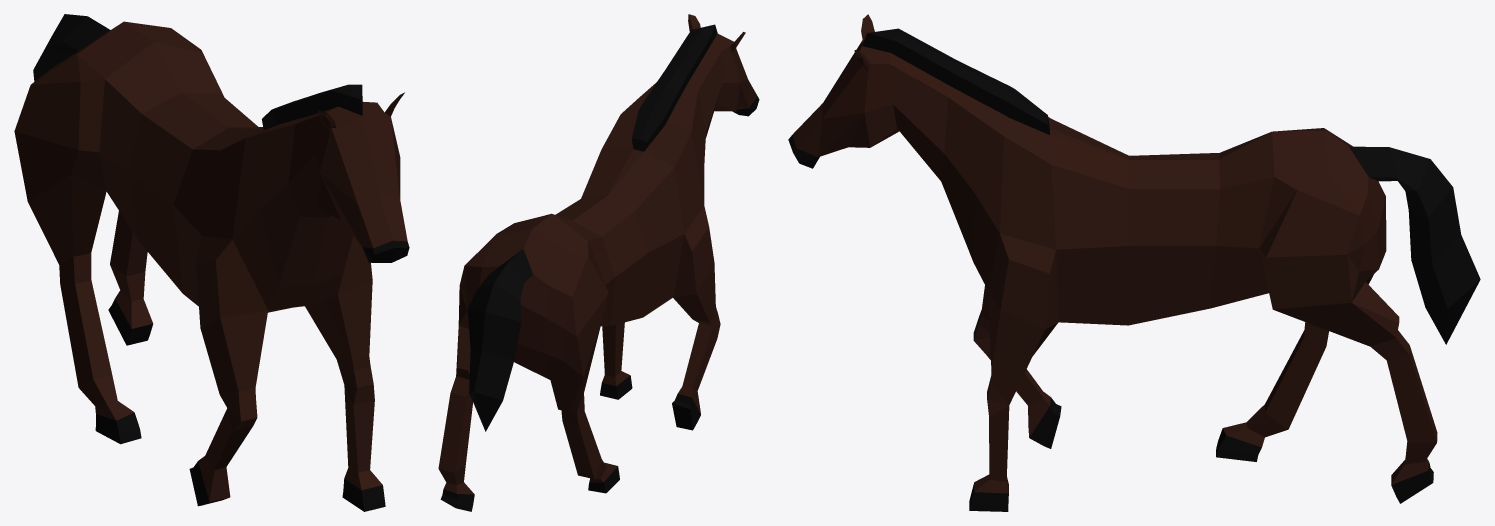
Rendered from Horse_000007.obj.
3 renders of one model, left to right at view 1: azimuth 30°, elevation 25°; view 2: azimuth 150°, elevation 25°; view 3: azimuth 270°, elevation 25°, orthographic. The views are drawn at different scales.
Parts seen in each view (by area): view 1: Horse_Cylinder; view 2: Horse_Cylinder; view 3: Horse_Cylinder.
Boxes of the visible parts, <box> form: Horse_Cylinder: <box>14,14,409,511</box>; Horse_Cylinder: <box>438,14,759,511</box>; Horse_Cylinder: <box>788,14,1480,511</box>.
Bounding box in the file's own units: 2.56 × 6.76 × 9.47.
